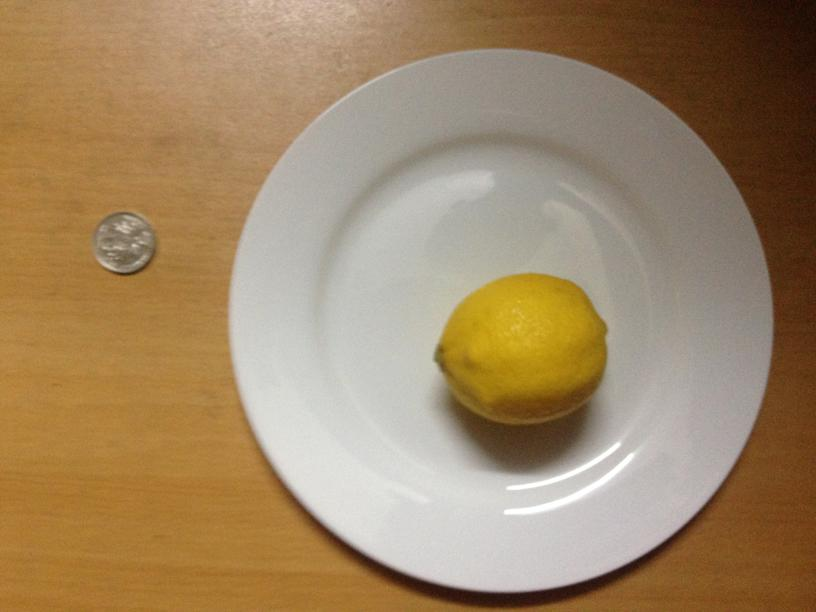coin: (91, 212, 156, 274)
lemon: (440, 273, 606, 427)
